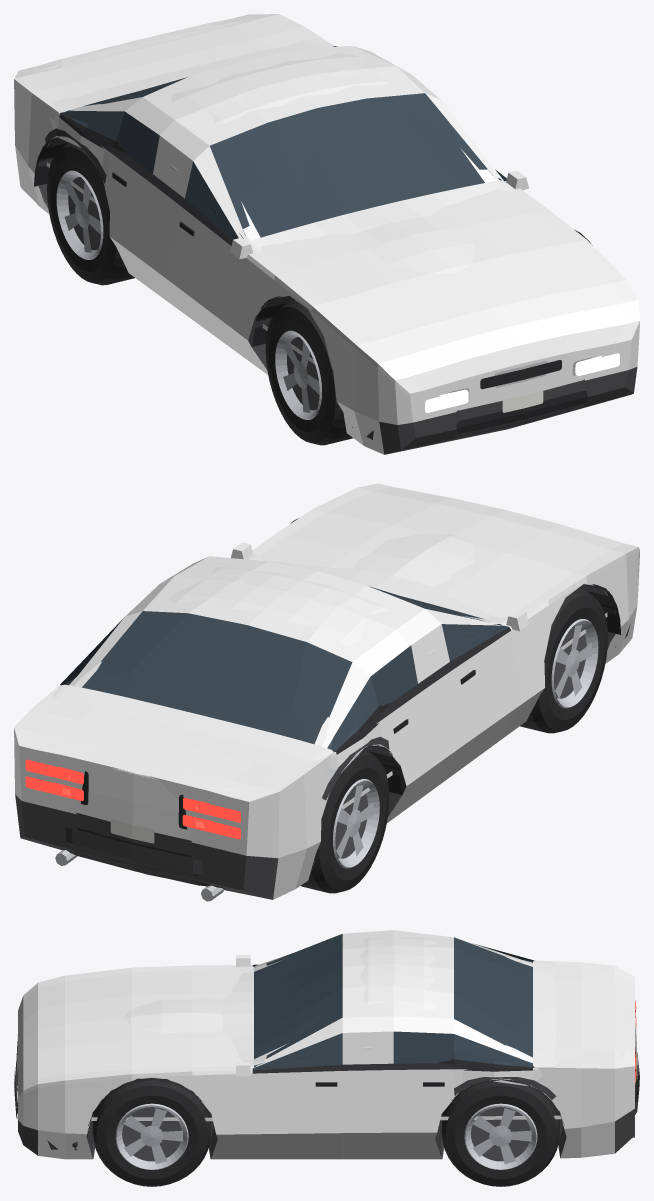
The model's file is gaucho.glb.
3 renders of one model, top to bottom at view 1: azimuth 30°, elevation 25°; view 2: azimuth 150°, elevation 25°; view 3: azimuth 270°, elevation 25°, orthographic. The views are drawn at different scales.
Visible parts, largest first — view 1: body.001, body, glass.001, glass, wheel_fr, wheel_rr, details, lamp_head.001, wheel_wells.001; view 2: body.001, body, glass.001, wheel_rr, wheel_fr, glass, details, lamp_tail.001, wheel_wells.001, lamp_tail; view 3: body.001, body, glass.001, wheel_fl, wheel_rl, glass, details, wheel_wells, wheel_wells.001.
Part boxes in pixels (bbox=[...]): body.001: bbox=[14, 14, 639, 454]; body: bbox=[36, 19, 514, 274]; glass.001: bbox=[60, 46, 506, 240]; glass: bbox=[65, 92, 501, 238]; wheel_fr: bbox=[265, 300, 352, 445]; wheel_rr: bbox=[47, 142, 134, 285]; details: bbox=[45, 116, 587, 439]; lamp_head.001: bbox=[425, 353, 619, 412]; wheel_wells.001: bbox=[34, 136, 289, 346]; body.001: bbox=[14, 483, 639, 899]; body: bbox=[36, 532, 507, 876]; glass.001: bbox=[60, 586, 508, 751]; wheel_rr: bbox=[301, 749, 389, 893]; wheel_fr: bbox=[520, 588, 607, 733]; glass: bbox=[65, 596, 501, 749]; details: bbox=[55, 542, 630, 901]; lamp_tail.001: bbox=[25, 759, 240, 839]; wheel_wells.001: bbox=[369, 584, 620, 794]; lamp_tail: bbox=[54, 766, 213, 829]; body.001: bbox=[18, 930, 634, 1159]; body: bbox=[123, 937, 637, 1102]; glass.001: bbox=[252, 934, 534, 1070]; wheel_fl: bbox=[93, 1080, 210, 1186]; wheel_rl: bbox=[442, 1081, 559, 1186]; glass: bbox=[254, 950, 532, 1068]; details: bbox=[14, 955, 639, 1150]; wheel_wells: bbox=[87, 1078, 565, 1137]; wheel_wells.001: bbox=[87, 1080, 565, 1138].
Bounding box in the file's own units: 2.04 × 1.42 × 4.67.
